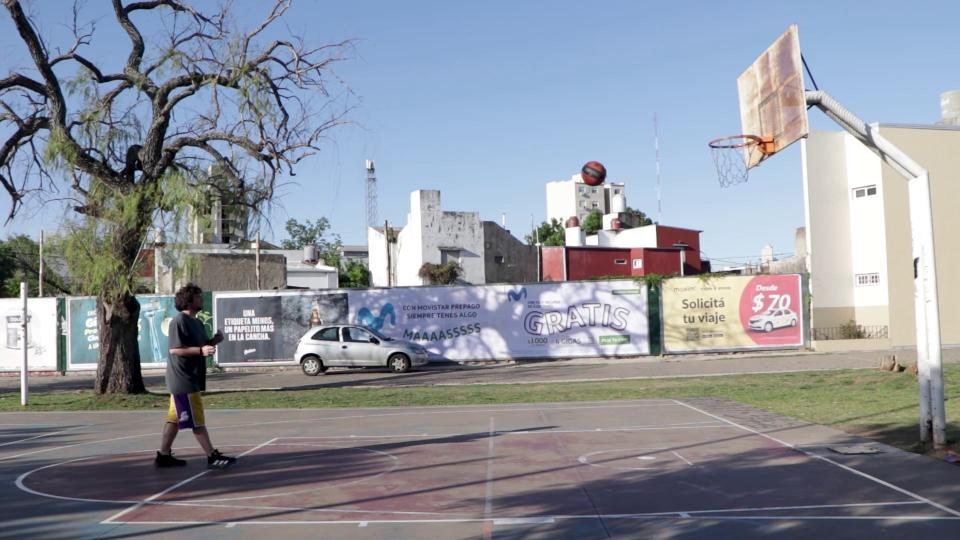hoop: (708, 134, 764, 150)
